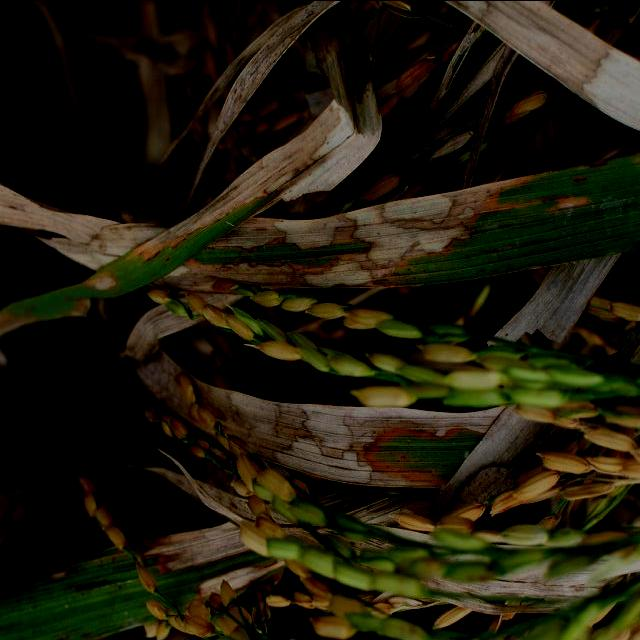Bacterial_Leaf_Blight: (136, 332, 486, 491), (148, 168, 592, 288), (81, 122, 357, 312), (140, 516, 282, 600)
